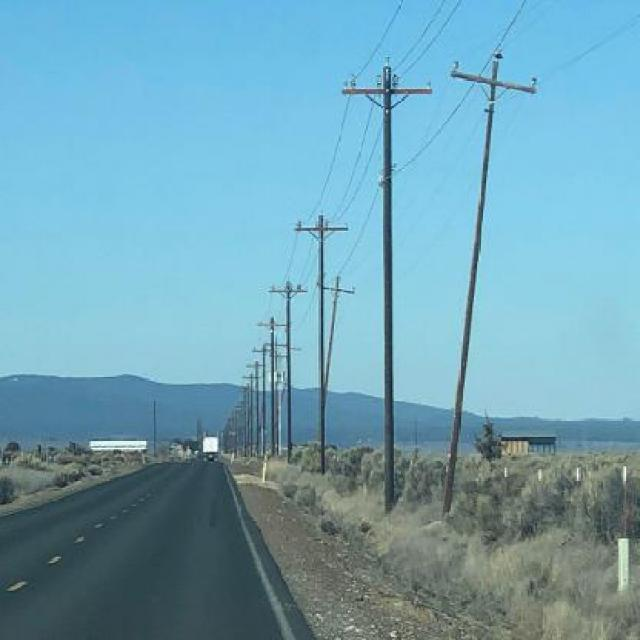pole: (338, 49, 437, 506), (444, 46, 536, 514), (294, 208, 354, 469)
